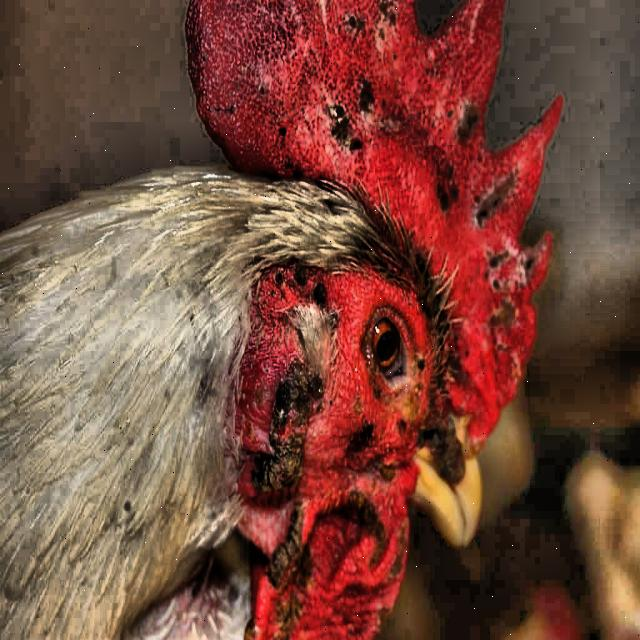Fowlpox: (186, 9, 544, 592)
